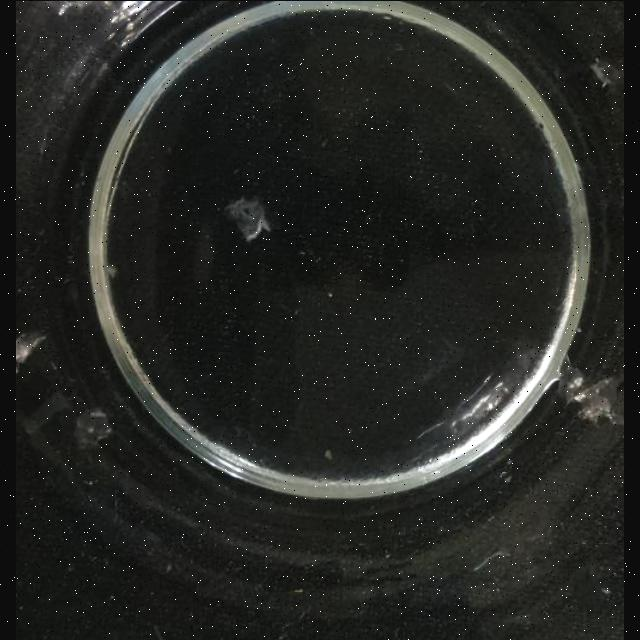Fibre: (566, 370, 624, 424), (224, 194, 270, 242), (75, 408, 113, 447), (16, 328, 46, 369), (590, 56, 624, 86), (471, 548, 509, 572), (108, 264, 119, 278)
microbeads: (324, 448, 334, 459), (602, 586, 614, 594), (298, 250, 308, 256)
